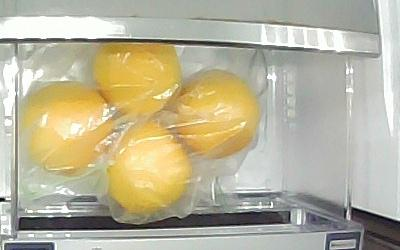grapefruit_vinyl: (24, 83, 114, 176), (170, 69, 261, 159), (106, 125, 192, 215), (93, 43, 182, 113)
